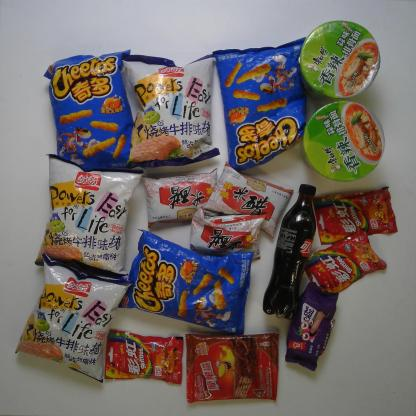Candy: (303, 230, 387, 298), (312, 184, 398, 246), (103, 326, 184, 384)
Dessert: (181, 332, 280, 402), (284, 281, 339, 372)
Drink: (262, 183, 316, 318)
Instant Noodles: (303, 99, 385, 183), (297, 20, 381, 101)
Puffed Food: (14, 254, 133, 385), (117, 228, 254, 340), (34, 153, 143, 283), (43, 47, 147, 174), (212, 37, 307, 175), (117, 52, 221, 170)
Seasoner: (202, 160, 294, 239), (141, 168, 219, 230), (189, 206, 268, 262)
